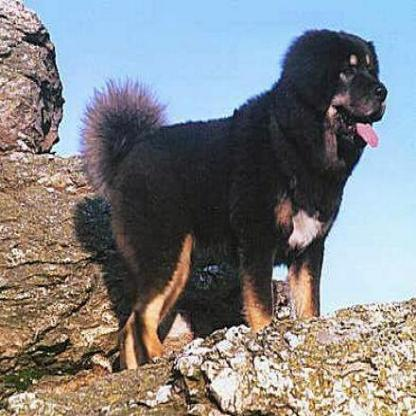Tibetan_mastiff: (64, 24, 389, 372)
